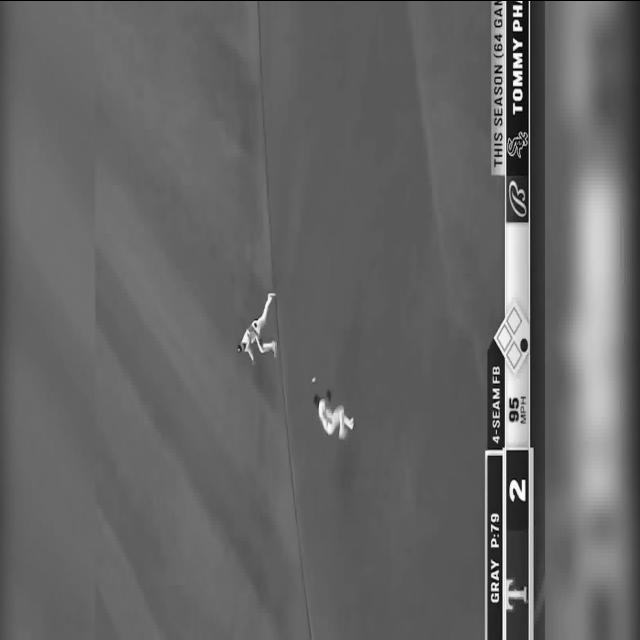baseball: (312, 377, 316, 383)
shoe: (348, 416, 354, 431), (272, 340, 276, 357), (268, 293, 276, 299)
